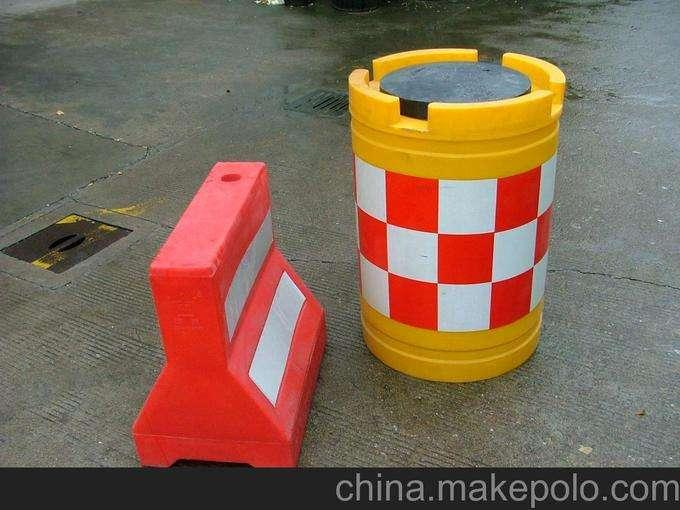sign: (337, 42, 557, 387), (142, 153, 320, 474)
